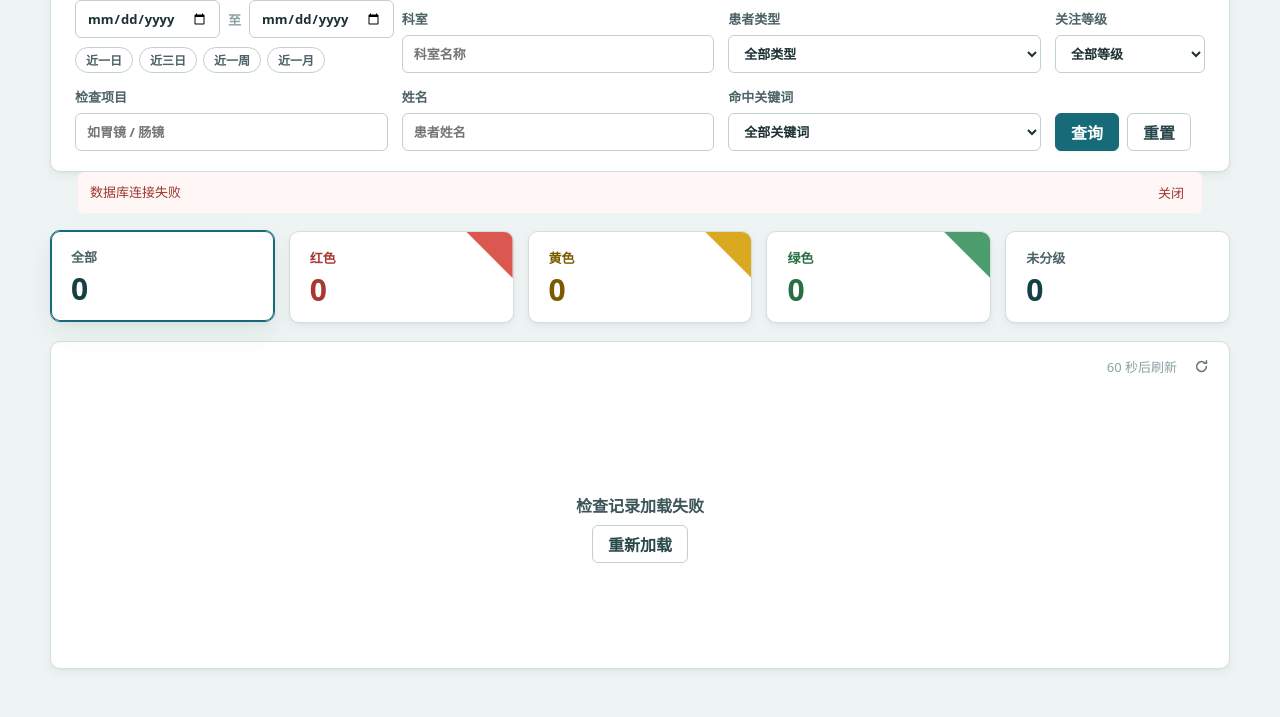
Test: Workbench › shows an error state with a working retry
(page scrolled)
Expected: the text "检查记录加载失败" is shown, [576, 493, 704, 517]
Step 1. Click the button "重新加载" → click(640, 544), box [592, 525, 688, 563]
(page scrolled)
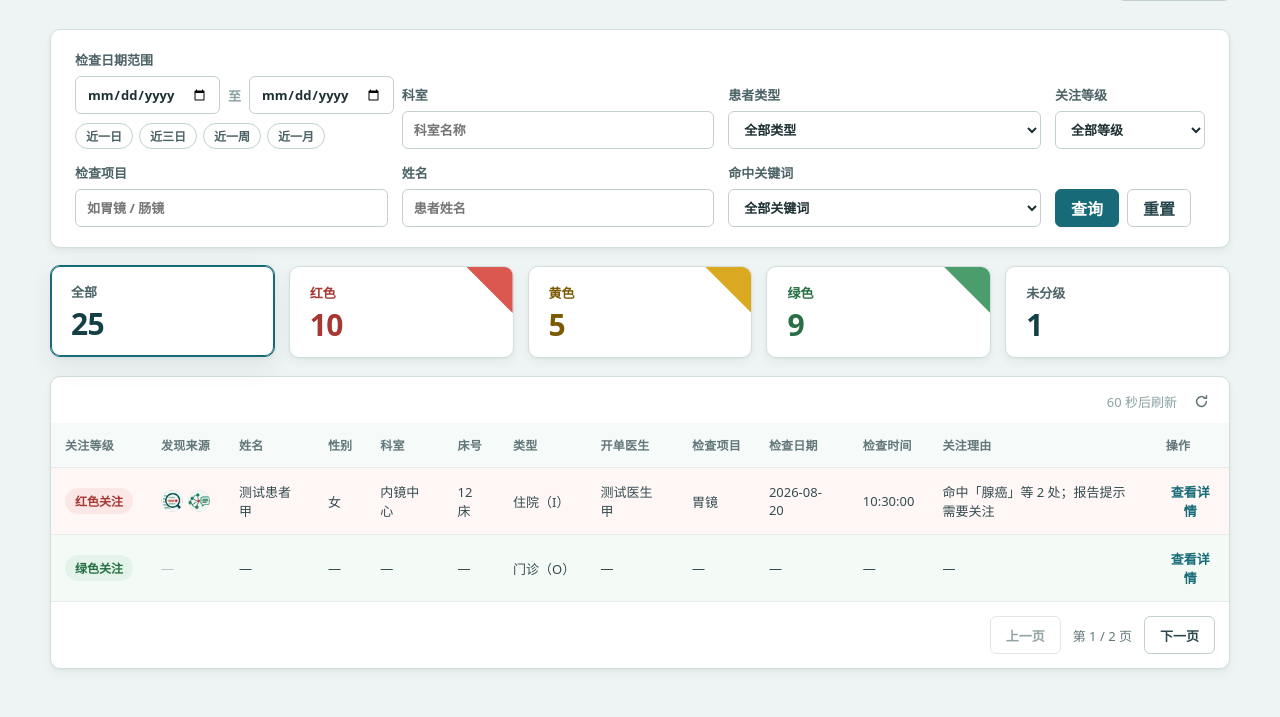
Result: the text "测试患者甲" is shown at [225, 468, 314, 534]
